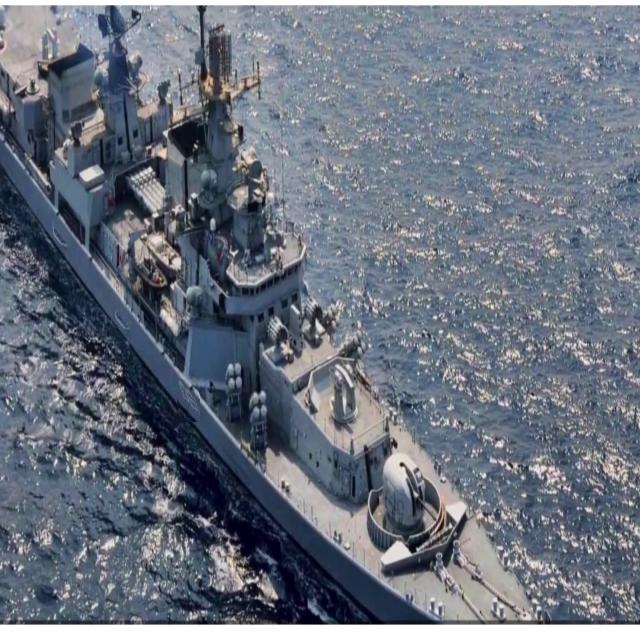OCR: (174, 374, 200, 422)
